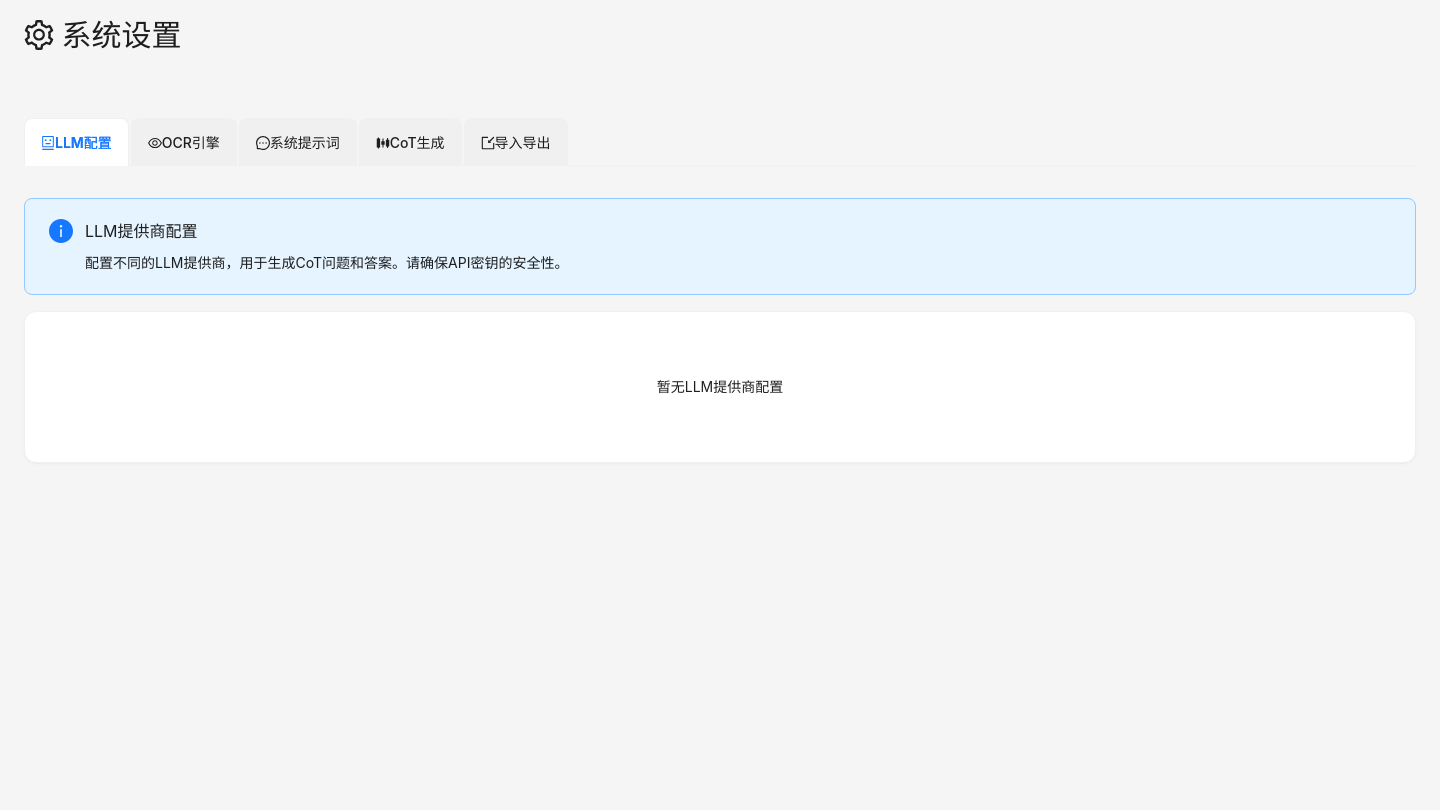
Scenario: CoT Generation Configuration › shows current configuration values
Click the tab "CoT生成".
click(410, 142)  # box left=376, top=130, right=445, bottom=154
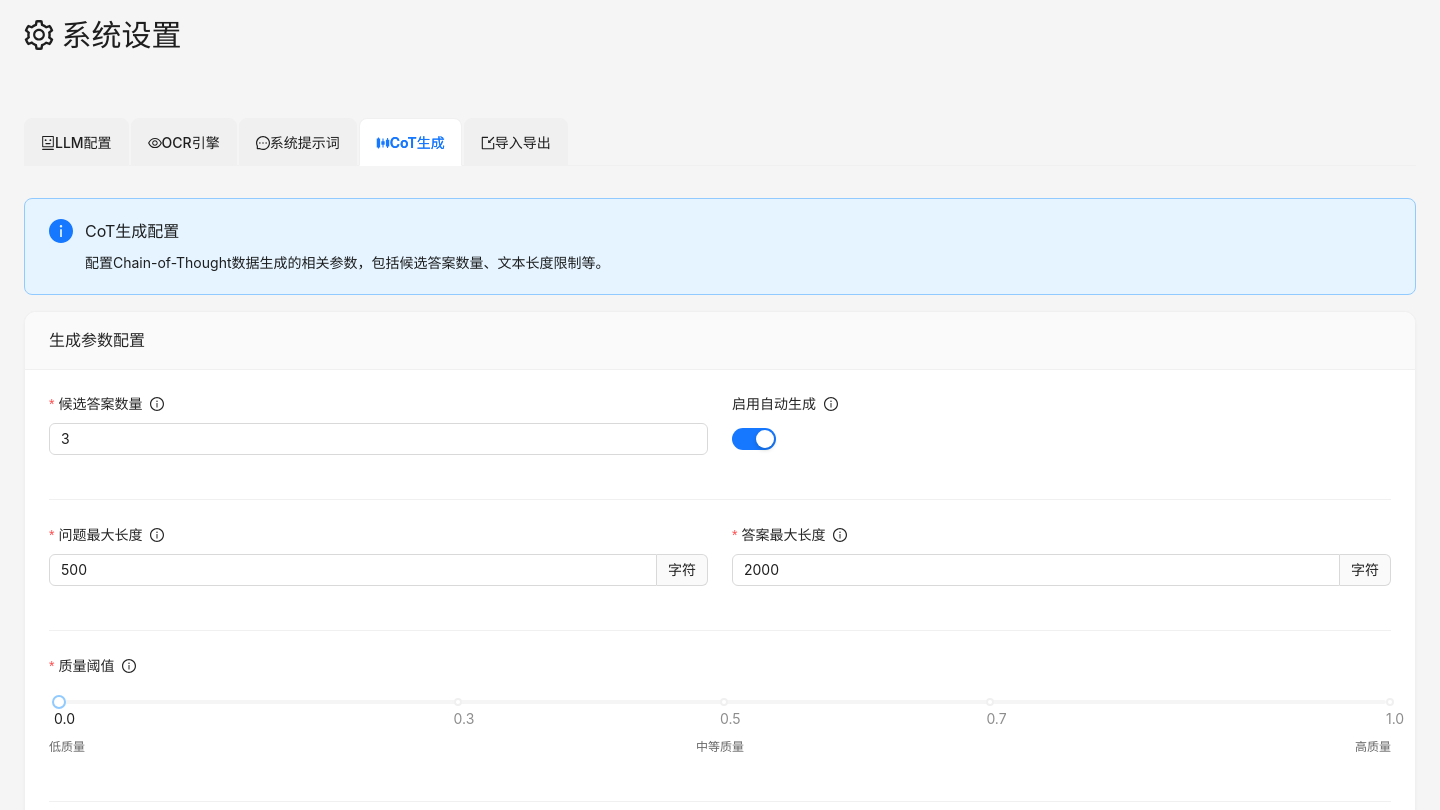
expect the number field showing "3" is shown: met, box left=50, top=424, right=707, bottom=454
expect the number field showing "500" is shown: met, box left=50, top=555, right=656, bottom=585
expect the number field showing "2000" is shown: met, box left=733, top=555, right=1339, bottom=585
